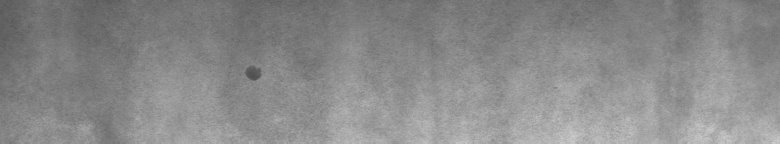fi: (241, 58, 268, 88)
